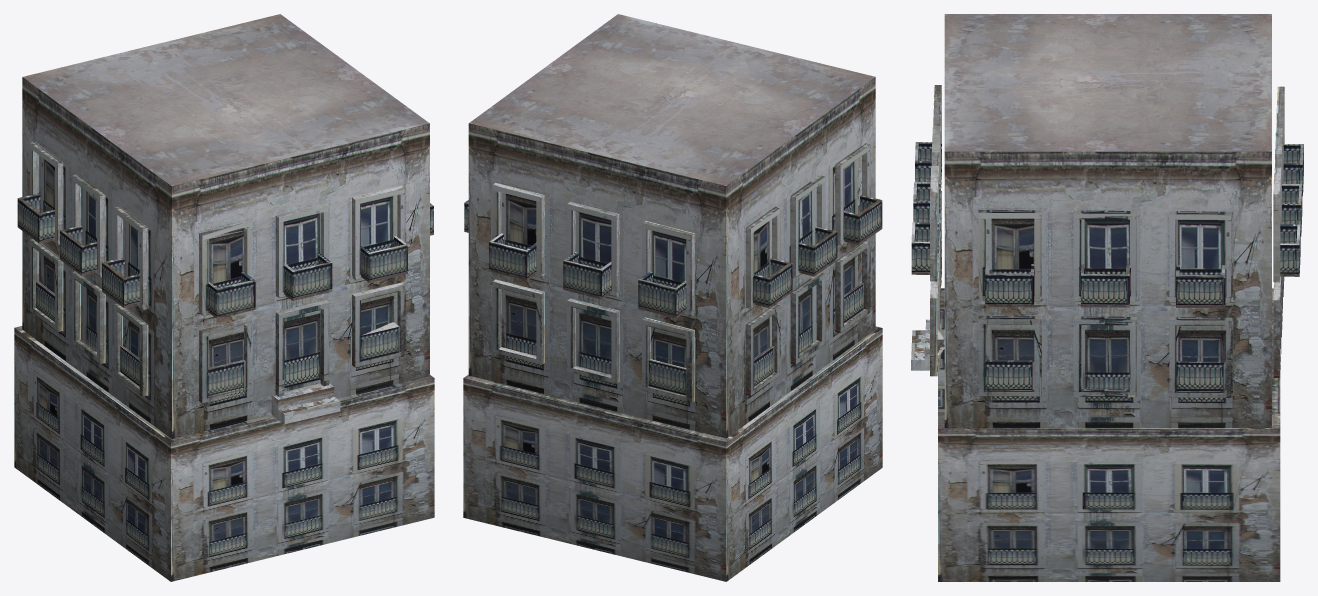
File: BagBuilding22_70.fbx
The picture shows the model from 3 angles, left to right: view 1: azimuth 30°, elevation 25°; view 2: azimuth 150°, elevation 25°; view 3: azimuth 270°, elevation 25°; orthographic projection. The views are drawn at different scales.
Parts seen in each view (by area): view 1: box70, Boxb70, roof70, main70; view 2: box70, Boxb70, roof70, main70; view 3: box70, Boxb70, roof70, main70.
Boxes of the visible parts, bbox=[...] form: box70: bbox=[22, 77, 429, 438]; Boxb70: bbox=[14, 326, 434, 581]; roof70: bbox=[23, 14, 429, 186]; main70: bbox=[17, 142, 433, 424]; box70: bbox=[468, 77, 875, 438]; Boxb70: bbox=[463, 326, 882, 581]; roof70: bbox=[469, 14, 875, 185]; main70: bbox=[464, 143, 882, 402]; box70: bbox=[944, 151, 1271, 428]; Boxb70: bbox=[938, 288, 1280, 581]; roof70: bbox=[944, 14, 1271, 151]; main70: bbox=[911, 85, 1303, 397].
Bounding box in the file's own units: 19.65 × 23.69 × 19.63.
